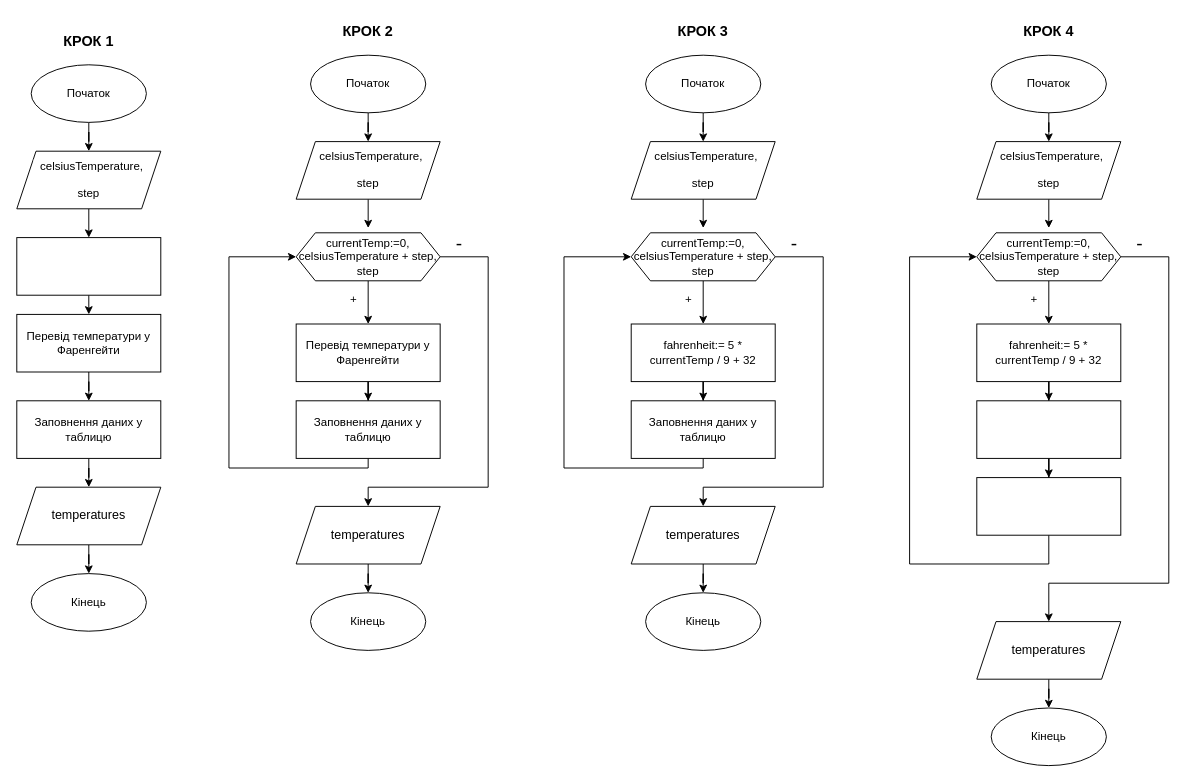
Image size: 1193x782. Some labels were removed from this diagram. The shapes that lost their labels are listed below. From the top down, each one's centre as x and y in pixels, then its label:
At point (88, 266): "Обчислення температур".
At point (1048, 429): "values[2]:={currentTemp, fahrenheit}".
At point (1048, 506): "temperatures:= temperatures + values".
